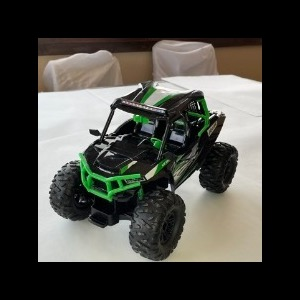polaris: (48, 79, 241, 261)
